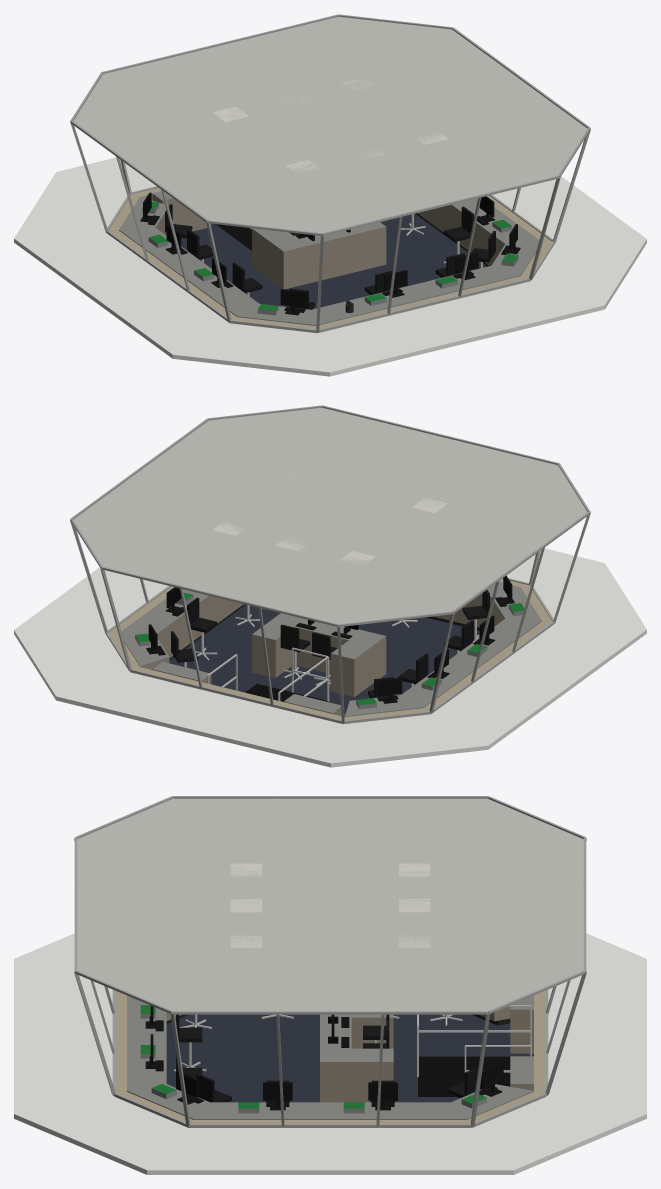
Rendered from mia_tower_interior.gltf.
3 renders of one model, top to bottom at view 1: azimuth 30°, elevation 25°; view 2: azimuth 150°, elevation 25°; view 3: azimuth 270°, elevation 25°, orthographic. The views are drawn at different scales.
Parts seen in each view (by area): view 1: MIA_Interior; view 2: MIA_Interior; view 3: MIA_Interior.
Boxes of the visible parts, x1,y1,x2,y2 form: MIA_Interior: (14,14,646,376); MIA_Interior: (14,405,646,767); MIA_Interior: (14,796,646,1174).
Size of the model in its own units: 12.03 by 3.64 by 12.03.
